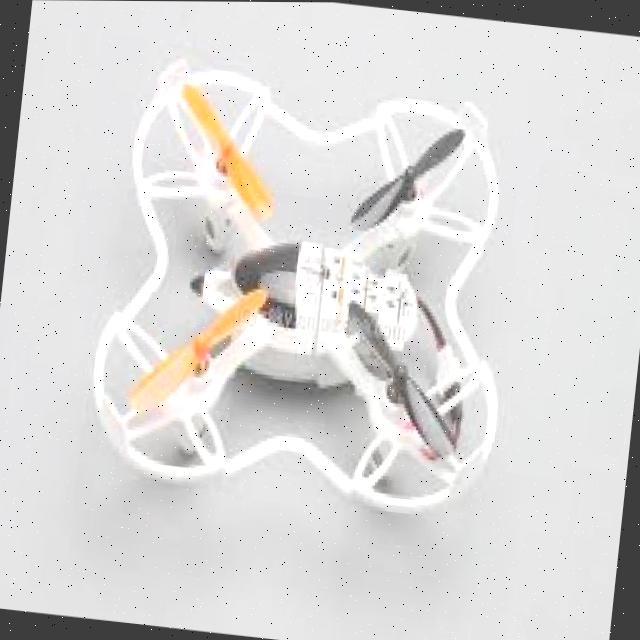drone: (70, 36, 562, 548)
